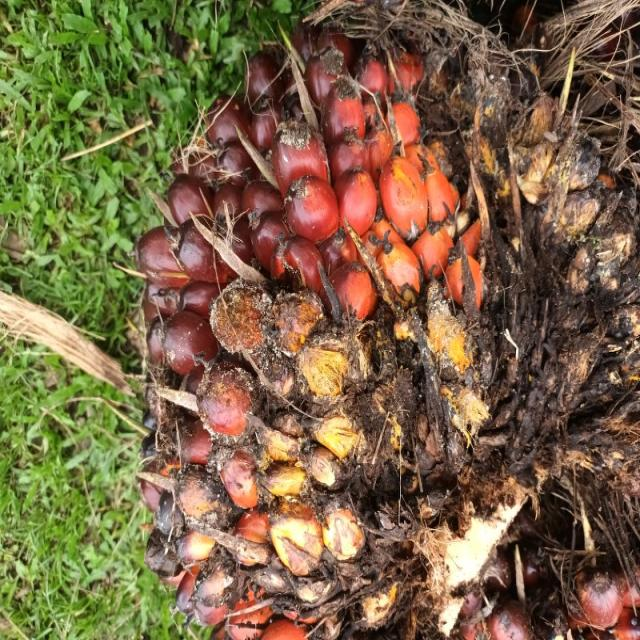fraksi 1: (17, 170, 480, 640)
